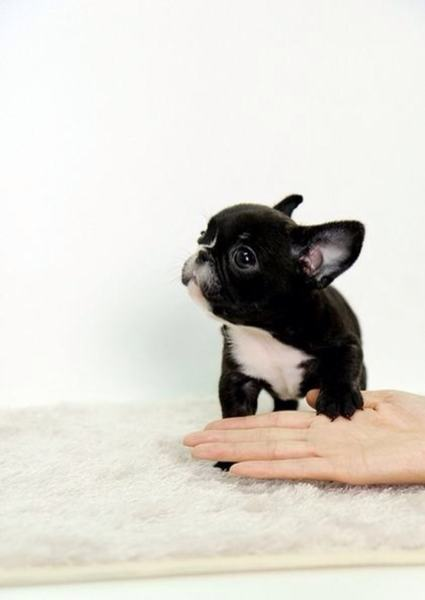dog: (168, 194, 369, 329)
